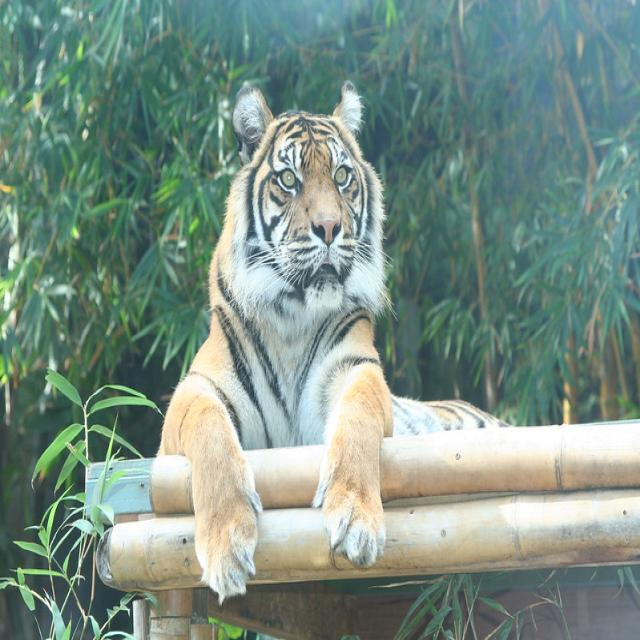Tiger: (155, 78, 523, 602)
